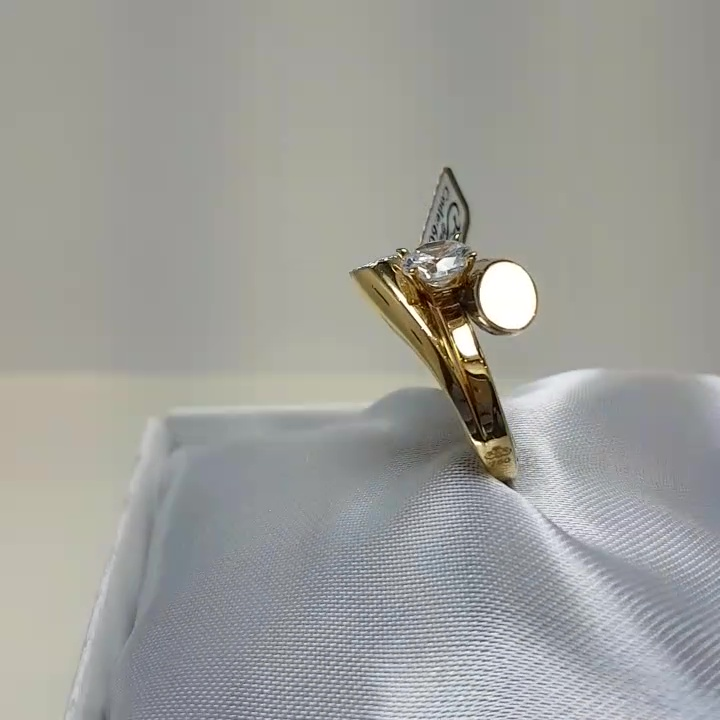Ring 7: (311, 234, 556, 487)
